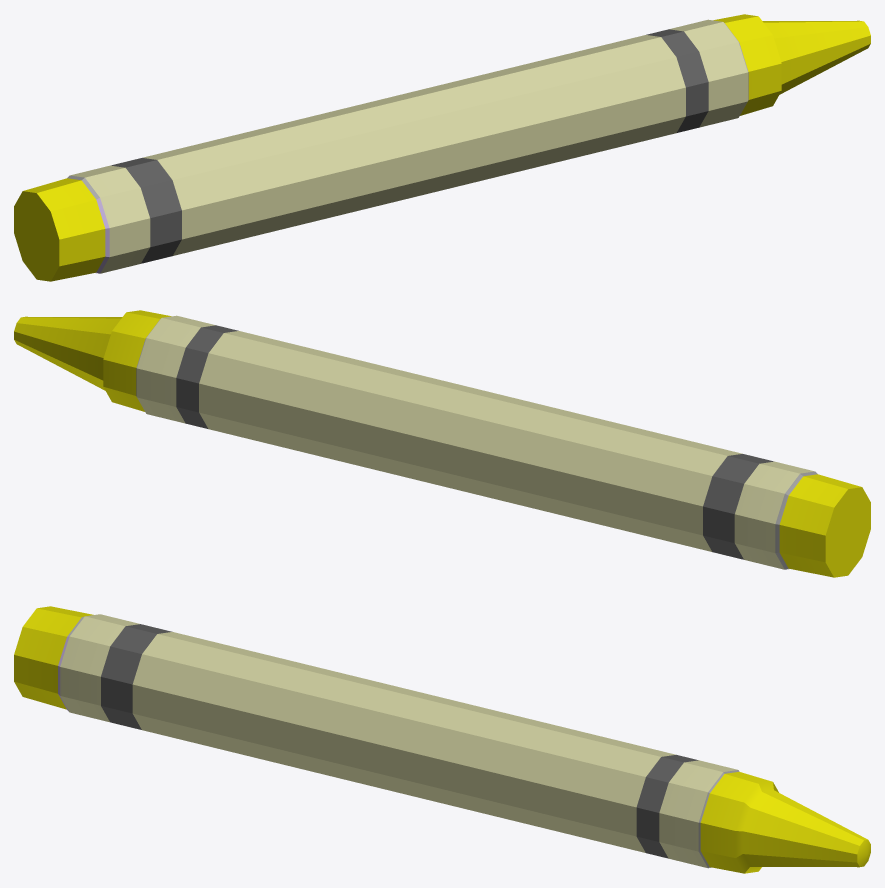
File: Crayon_Yellow.fbx
3 renders of one model, top to bottom at view 1: azimuth 30°, elevation 25°; view 2: azimuth 150°, elevation 25°; view 3: azimuth 330°, elevation 25°, orthographic.
Visible parts, largest first — view 1: pCylinder13; view 2: pCylinder13; view 3: pCylinder13.
Part boxes in pixels (x1,y1,x2,y2): pCylinder13: (14, 14, 870, 281); pCylinder13: (14, 310, 870, 577); pCylinder13: (14, 606, 870, 873).
Size of the model in its own units: 9.4 by 1.02 by 0.9667.
